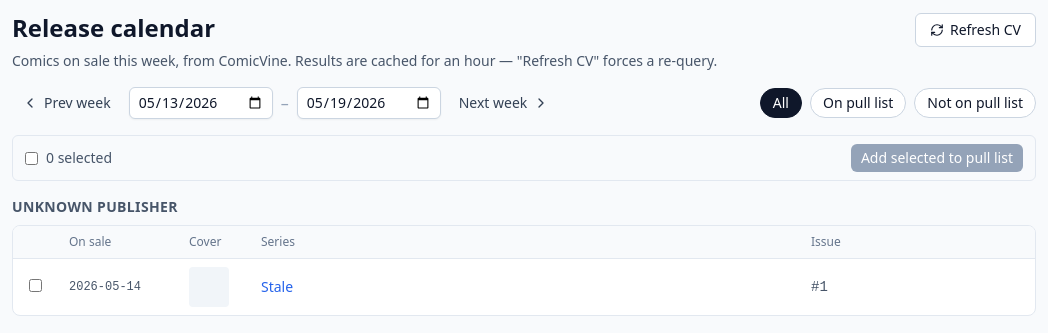
Test case: release calendar page › refreshes from ComicVine when Refresh CV is clicked
The image size is (1048, 333).
Click the button "Refresh CV" at point(975, 30), box [915,13,1036,47]
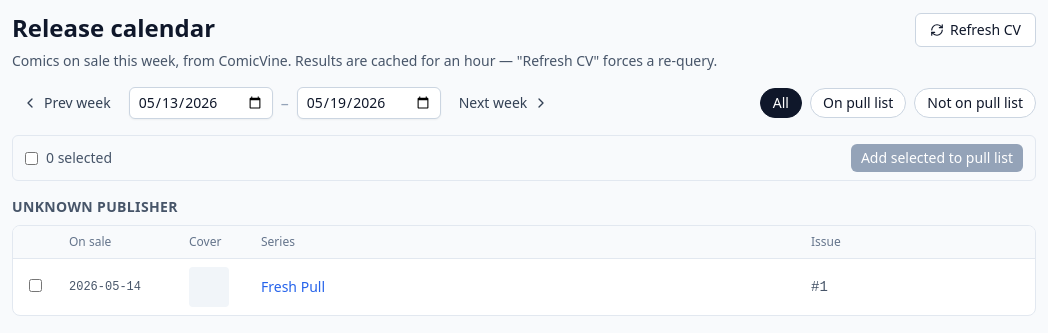
Expected: the link "Fresh Pull" is shown, [261,277,325,296]
